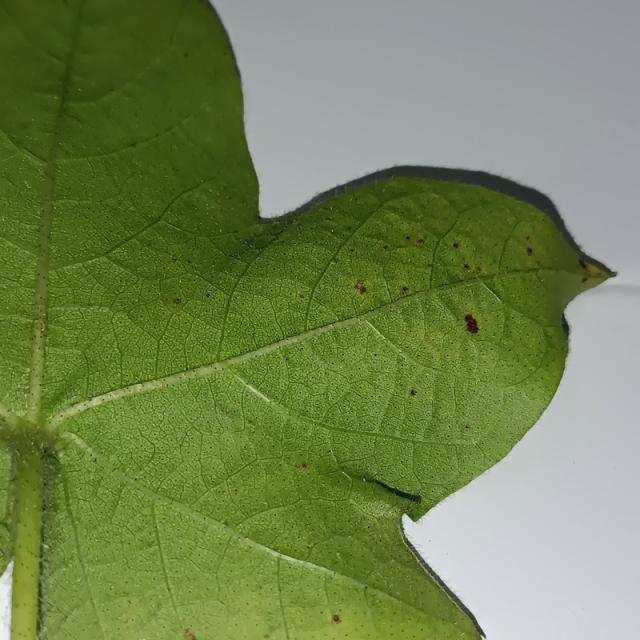Bacterial_Blight: (27, 302, 49, 409), (577, 254, 618, 288), (368, 477, 421, 503), (460, 306, 488, 343), (577, 259, 593, 285), (30, 317, 46, 335), (292, 456, 309, 471), (352, 279, 367, 294), (263, 623, 279, 637), (405, 235, 425, 246), (182, 626, 198, 639), (331, 613, 342, 625), (578, 259, 587, 270), (246, 417, 256, 426), (122, 616, 130, 624), (526, 247, 533, 255), (173, 298, 181, 305), (124, 385, 131, 393), (400, 289, 407, 296), (410, 389, 417, 396), (464, 424, 471, 431), (452, 243, 459, 249), (463, 264, 470, 270), (325, 216, 333, 221), (299, 293, 305, 299), (333, 258, 339, 264), (477, 266, 483, 272), (109, 87, 115, 93), (172, 256, 177, 263), (184, 52, 189, 58), (306, 545, 312, 550), (405, 236, 410, 241), (525, 236, 530, 241), (206, 293, 211, 298), (383, 245, 388, 250), (46, 234, 51, 239), (93, 457, 97, 463), (263, 637, 270, 640), (42, 275, 46, 279)
Cotton: (0, 0, 613, 639)
